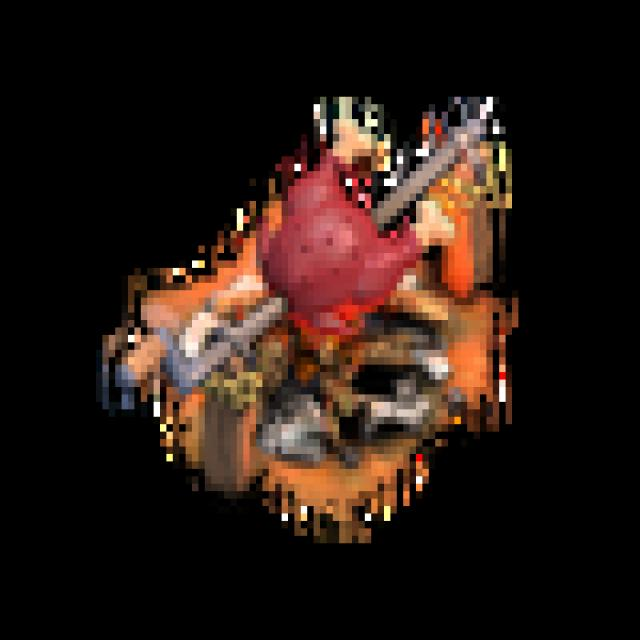army_camp: (99, 48, 546, 573)
